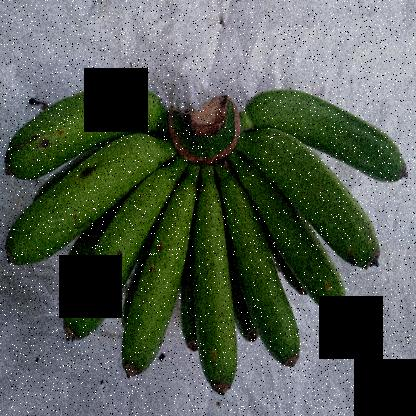unripe: (252, 71, 411, 198), (1, 70, 180, 176), (178, 162, 249, 415), (273, 122, 387, 276), (122, 205, 201, 387)
